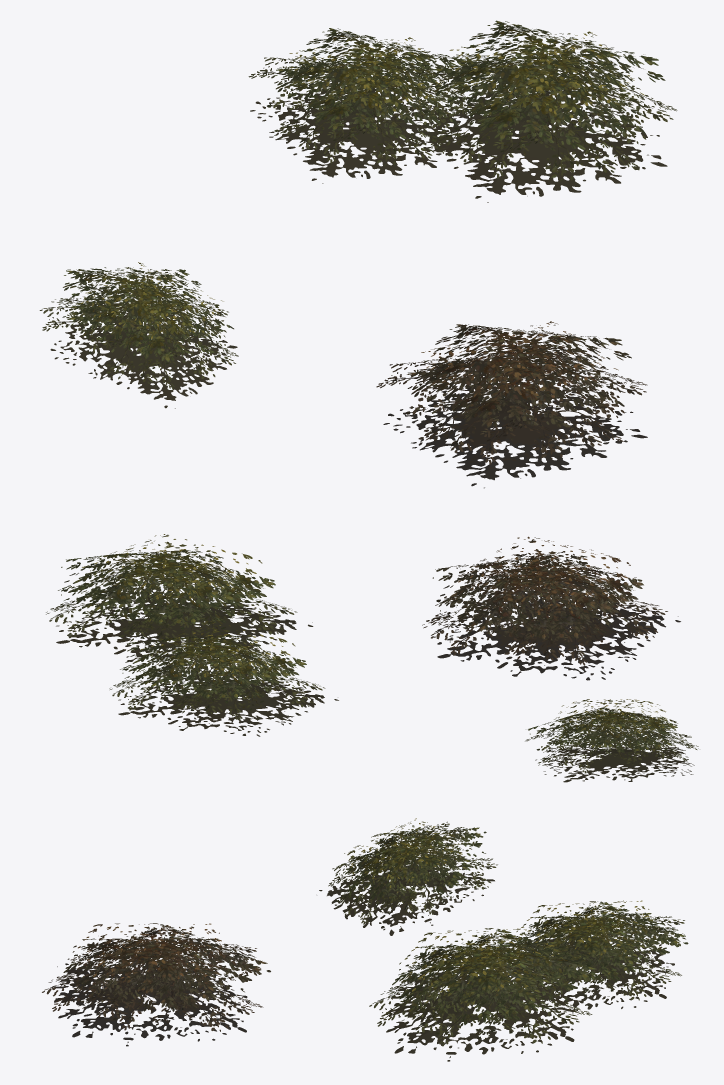
File: plants_bushes.fbx
3 renders of one model, top to bottom at view 1: azimuth 30°, elevation 25°; view 2: azimuth 150°, elevation 25°; view 3: azimuth 270°, elevation 25°, orthographic. The views are drawn at different scales.
Visible parts, largest first — view 1: obj1.040; view 2: obj1.040; view 3: obj1.040.
Boxes of the visible parts, x1,y1,x2,y2 form: obj1.040: [39, 20, 677, 488]; obj1.040: [46, 534, 698, 782]; obj1.040: [42, 818, 688, 1061].
Size of the model in its own units: 11.89 by 2.95 by 11.99.
